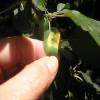Apple rust leaf: (43, 27, 62, 58)
